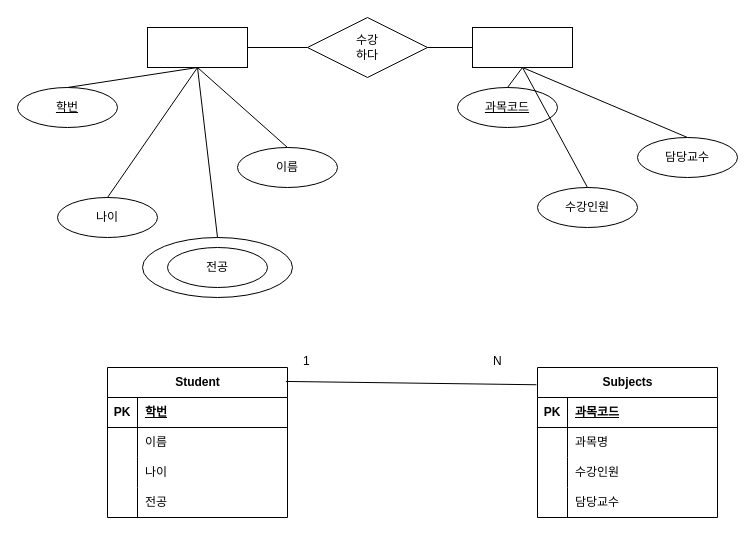
The diagram is 755 pixels wide and 535 high, and some of its shapes have lost their labels. The shapes that lost their labels are listed below. From the top down, each one's centre as x and y in pixels, then its label:
[197,47]: 학생
[522,47]: 과목
